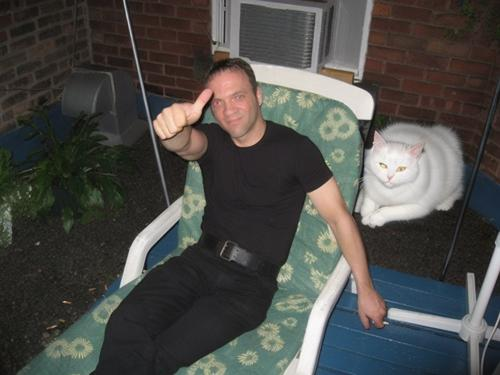cat: (358, 119, 465, 230)
person: (89, 55, 390, 375)
person/hand: (151, 88, 213, 140), (357, 289, 387, 330)
person/head: (205, 57, 264, 138)
pottedplant: (26, 109, 132, 222)
